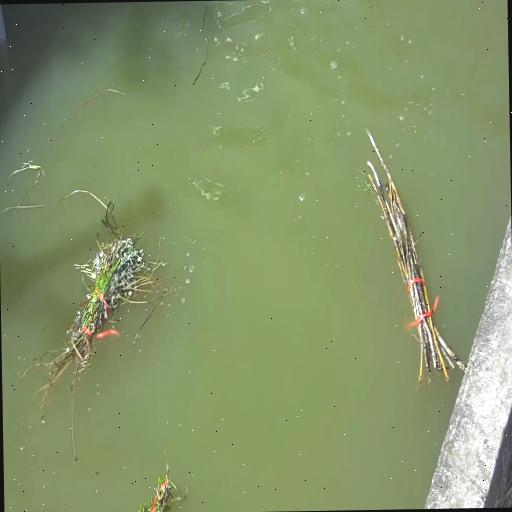twig: (357, 132, 463, 388), (56, 208, 140, 370), (131, 460, 187, 512)
